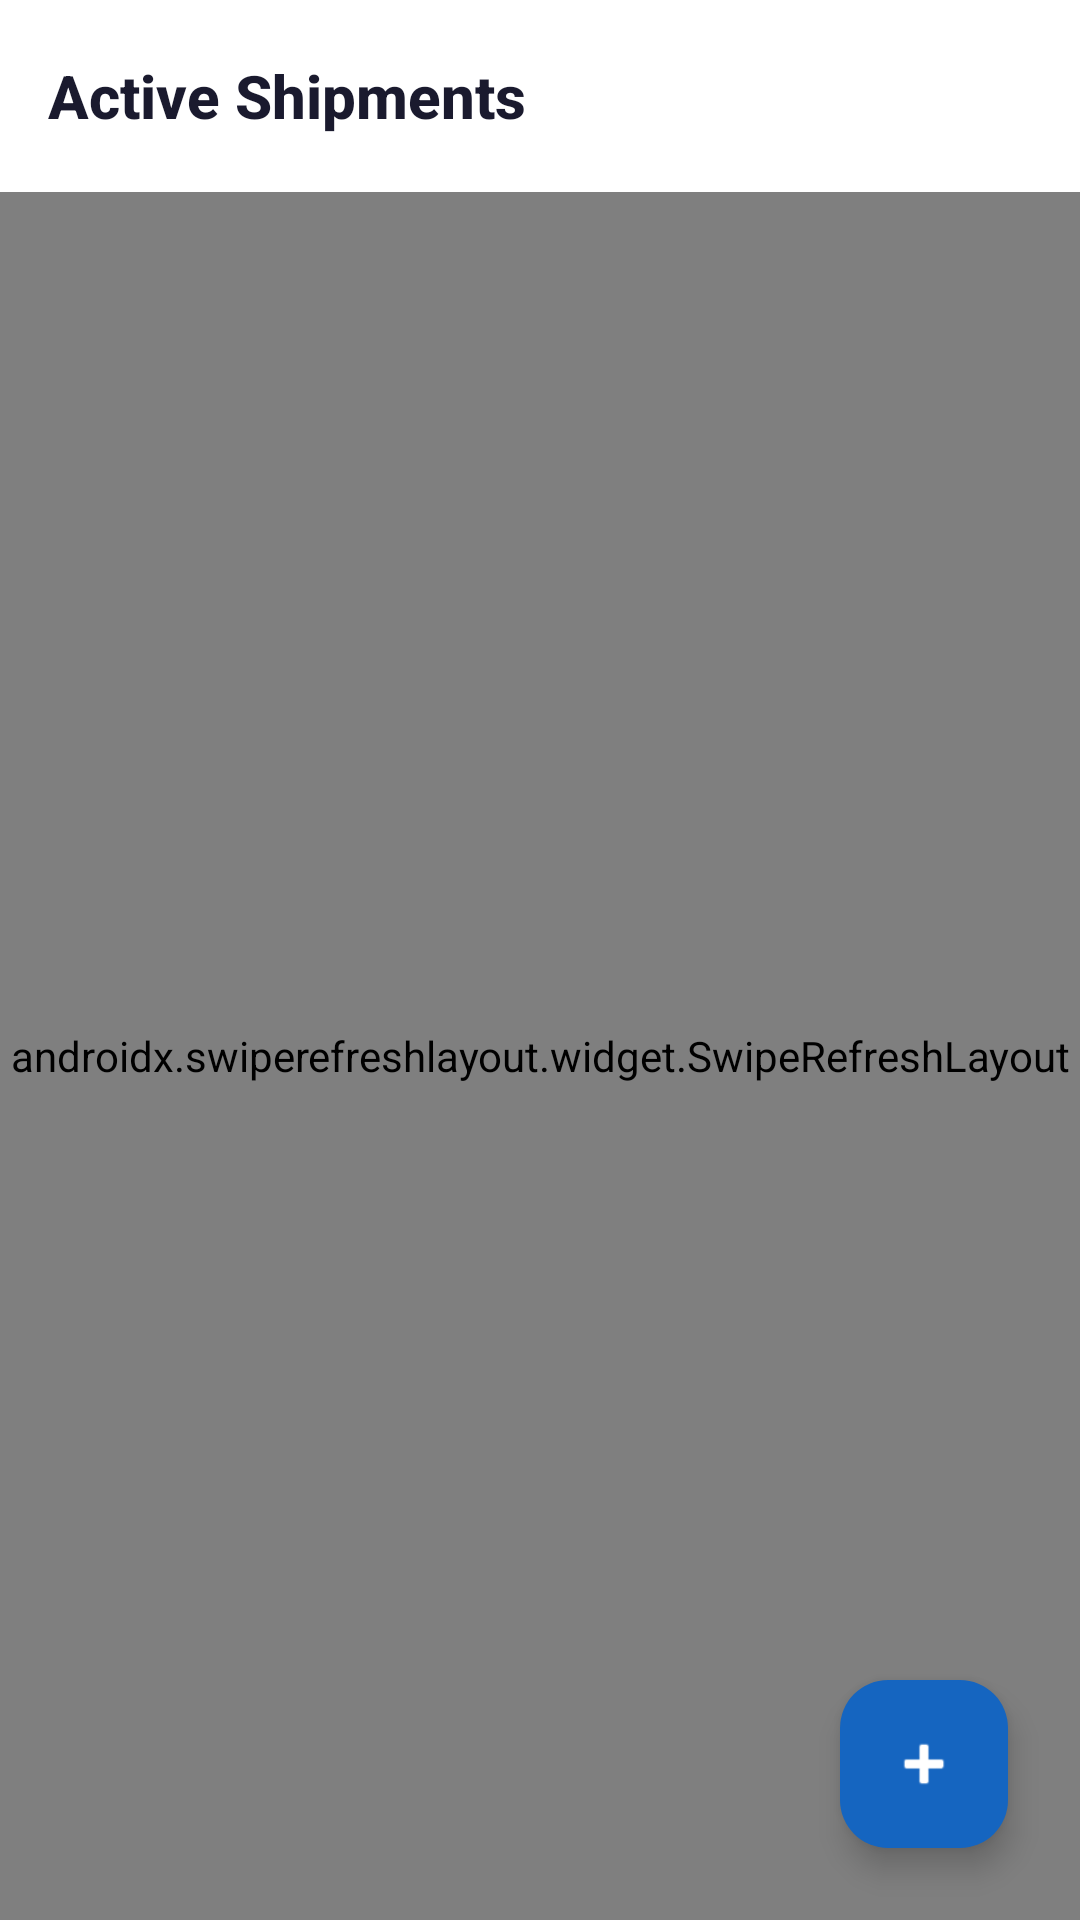

Named icons in this screenshot (1080 × 1920) and their centers, point (x, y):
Create Shipment: point (924, 1764)
